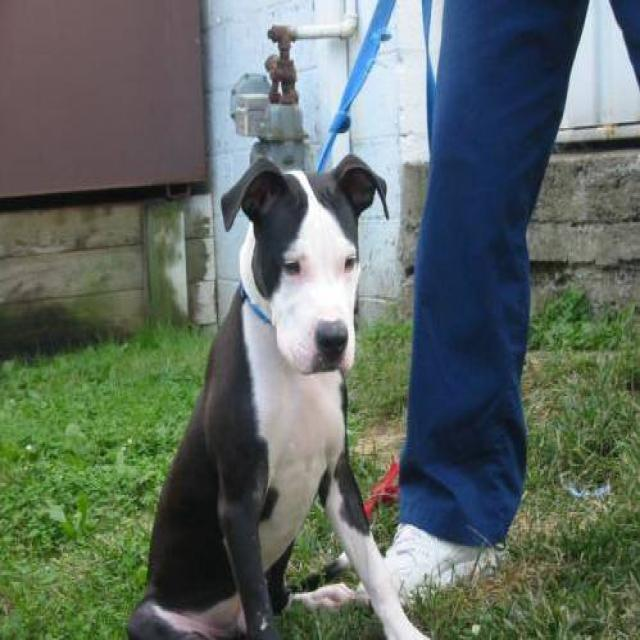puppy-dog: (128, 157, 425, 640)
